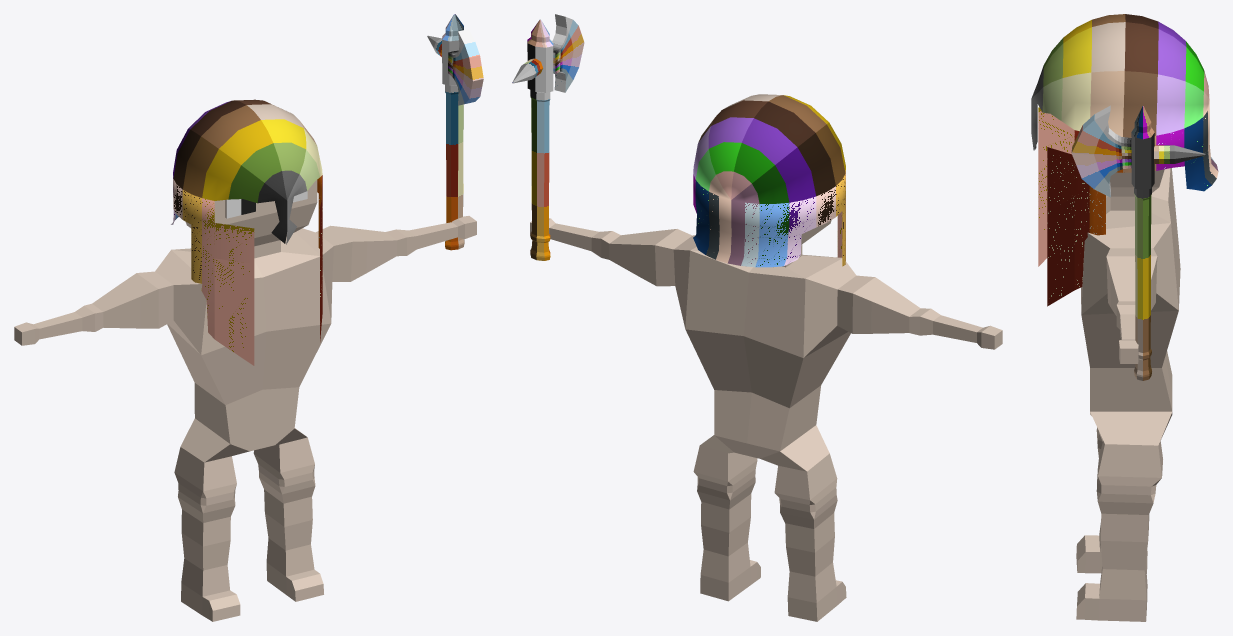
File: lowpoly gladiator NPC.fbx
The picture shows the model from 3 angles, left to right: view 1: azimuth 30°, elevation 25°; view 2: azimuth 150°, elevation 25°; view 3: azimuth 270°, elevation 25°; orthographic projection. The views are drawn at different scales.
Visible parts, largest first — view 1: NPC.001; view 2: NPC.001; view 3: NPC.001.
Boxes of the visible parts, left/top/right/bottom form: NPC.001: left=14, top=14, right=483, bottom=621; NPC.001: left=512, top=14, right=1002, bottom=621; NPC.001: left=1031, top=14, right=1218, bottom=621.
Size of the model in its own units: 481 by 527 by 147.
